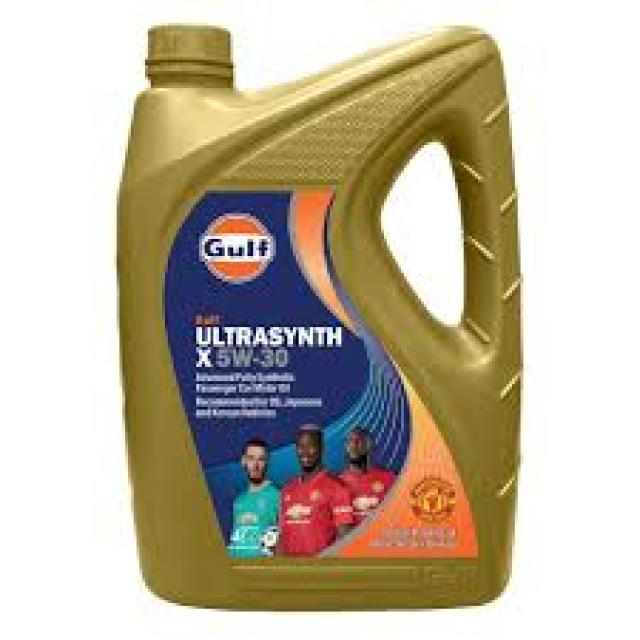motor_oil: (114, 17, 523, 609)
